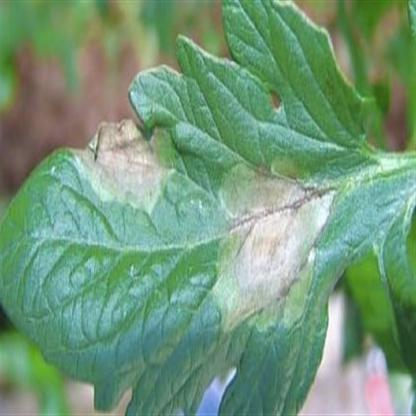tomato leaf late blight: (5, 3, 398, 413)
